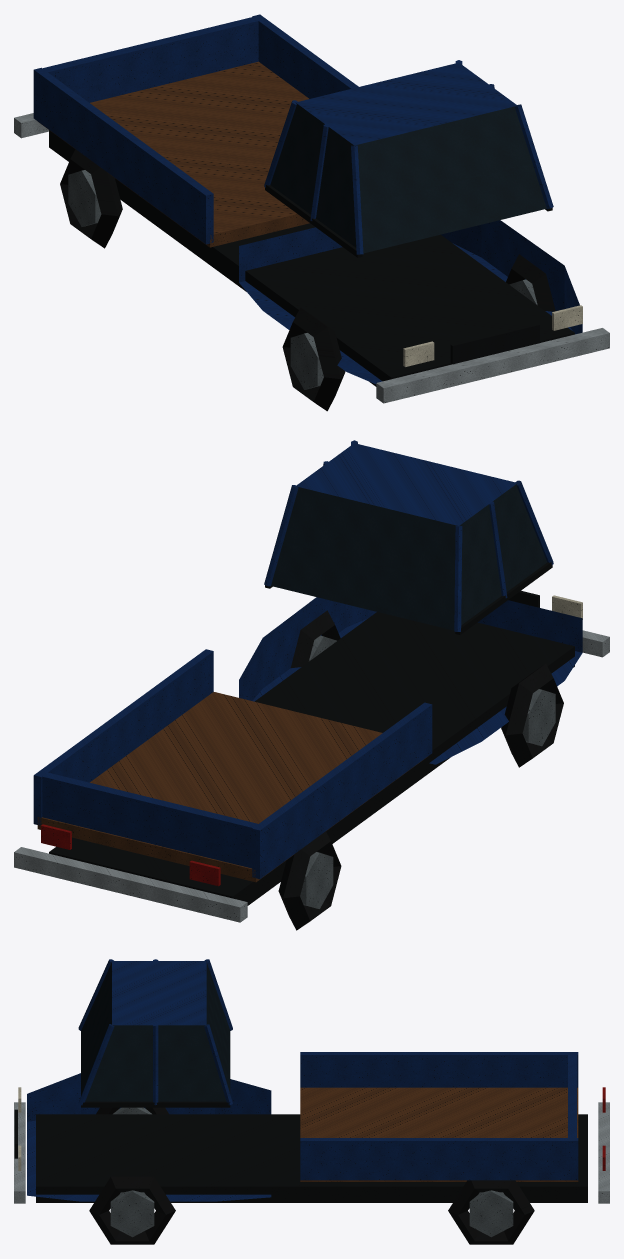
The model's file is PROP-54B144E9C32A_lod2.glb.
3 renders of one model, top to bottom at view 1: azimuth 30°, elevation 25°; view 2: azimuth 150°, elevation 25°; view 3: azimuth 270°, elevation 25°, orthographic. The views are drawn at different scales.
Parts seen in each view (by area): view 1: chassis.017, sloped_cabin_glazing.017, bed_deck.001, bed_sides.001, roof_panel.015, tailgate.001, shaped_body_panels.017, tire.017, bumper.017, rim.017, window_pillars.017, radiator_grille.017 (+2 smaller); view 2: chassis.017, sloped_cabin_glazing.017, bed_deck.001, bed_sides.001, tailgate.001, roof_panel.015, shaped_body_panels.017, tire.017, bumper.017, rim.017, window_pillars.017, lamp_lenses.035 (+1 smaller); view 3: chassis.017, bed_sides.001, bed_deck.001, sloped_cabin_glazing.017, roof_panel.015, tire.017, shaped_body_panels.017, rim.017, window_pillars.017, bumper.017, window_belt.017, tailgate.001.
Boxes of the visible parts, left/top/right/bottom form: chassis.017: left=49, top=130, right=574, bottom=386; sloped_cabin_glazing.017: left=270, top=103, right=546, bottom=253; bed_deck.001: left=39, top=61, right=309, bottom=247; bed_sides.001: left=33, top=14, right=358, bottom=244; roof_panel.015: left=295, top=62, right=517, bottom=145; tailgate.001: left=42, top=16, right=261, bottom=102; shaped_body_panels.017: left=239, top=220, right=582, bottom=384; tire.017: left=60, top=149, right=555, bottom=411; bumper.017: left=14, top=113, right=609, bottom=403; rim.017: left=68, top=170, right=537, bottom=389; window_pillars.017: left=264, top=60, right=553, bottom=254; radiator_grille.017: left=450, top=323, right=539, bottom=364; chassis.017: left=49, top=612, right=574, bottom=905; sloped_cabin_glazing.017: left=271, top=483, right=547, bottom=630; bed_deck.001: left=37, top=692, right=426, bottom=882; bed_sides.001: left=33, top=649, right=432, bottom=879; tailgate.001: left=42, top=772, right=261, bottom=868; roof_panel.015: left=296, top=443, right=517, bottom=525; shaped_body_panels.017: left=239, top=597, right=582, bottom=764; tire.017: left=278, top=610, right=563, bottom=930; bumper.017: left=14, top=630, right=609, bottom=922; rim.017: left=300, top=635, right=555, bottom=908; window_pillars.017: left=264, top=440, right=553, bottom=631; lamp_lenses.035: left=41, top=824, right=220, bottom=886; chassis.017: left=36, top=1114, right=587, bottom=1202; bed_sides.001: left=300, top=1052, right=578, bottom=1180; bed_deck.001: left=300, top=1087, right=578, bottom=1181; sloped_cabin_glazing.017: left=81, top=961, right=230, bottom=1101; roof_panel.015: left=112, top=961, right=206, bottom=1025; tire.017: left=89, top=1107, right=534, bottom=1244; shaped_body_panels.017: left=27, top=1073, right=271, bottom=1201; rim.017: left=110, top=1107, right=513, bottom=1237; window_pillars.017: left=78, top=959, right=232, bottom=1105; bumper.017: left=14, top=1102, right=609, bottom=1203; window_belt.017: left=81, top=1101, right=230, bottom=1107; tailgate.001: left=568, top=1053, right=576, bottom=1139.
Bounding box in the file's own units: 2.47 × 2.56 × 6.59.
9 materials, 9 textured.
